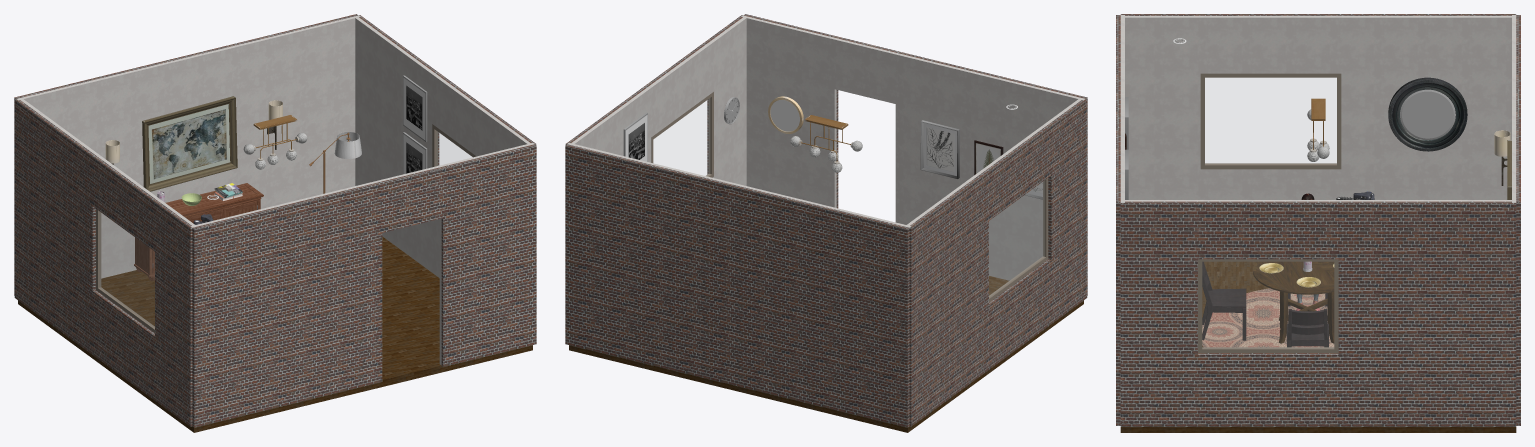
The picture shows the model from 3 angles, left to right: view 1: azimuth 30°, elevation 25°; view 2: azimuth 150°, elevation 25°; view 3: azimuth 270°, elevation 25°; orthographic projection. The views are drawn at different scales.
Parts seen in each view (by area): view 1: world (×14), room_geometry_dining_room__v0, glass (×2), frame; view 2: world (×13), glass (×2), room_geometry_dining_room__v0, frame (×2); view 3: world (×12), glass (×2), frame (×2), room_geometry_dining_room__v0, dining_room_rug_0, Walnut_wood.001 (×2).
Boxes of the visible parts, x1,y1,x2,y2 form: world (×14): [14, 14, 536, 427]; room_geometry_dining_room__v0: [18, 236, 532, 432]; glass (×2): [100, 131, 471, 327]; frame: [96, 209, 154, 332]; world (×13): [565, 14, 1087, 427]; glass (×2): [653, 99, 1044, 296]; room_geometry_dining_room__v0: [569, 276, 1083, 432]; frame (×2): [651, 92, 1048, 302]; world (×12): [1116, 14, 1520, 426]; glass (×2): [1202, 78, 1336, 347]; frame (×2): [1198, 73, 1341, 353]; room_geometry_dining_room__v0: [1120, 261, 1516, 432]; dining_room_rug_0: [1202, 288, 1334, 347]; Walnut_wood.001 (×2): [1202, 261, 1328, 347].
Bounding box in the file's own units: 5.1 × 2.9 × 4.6.
50 materials, 25 textured.
